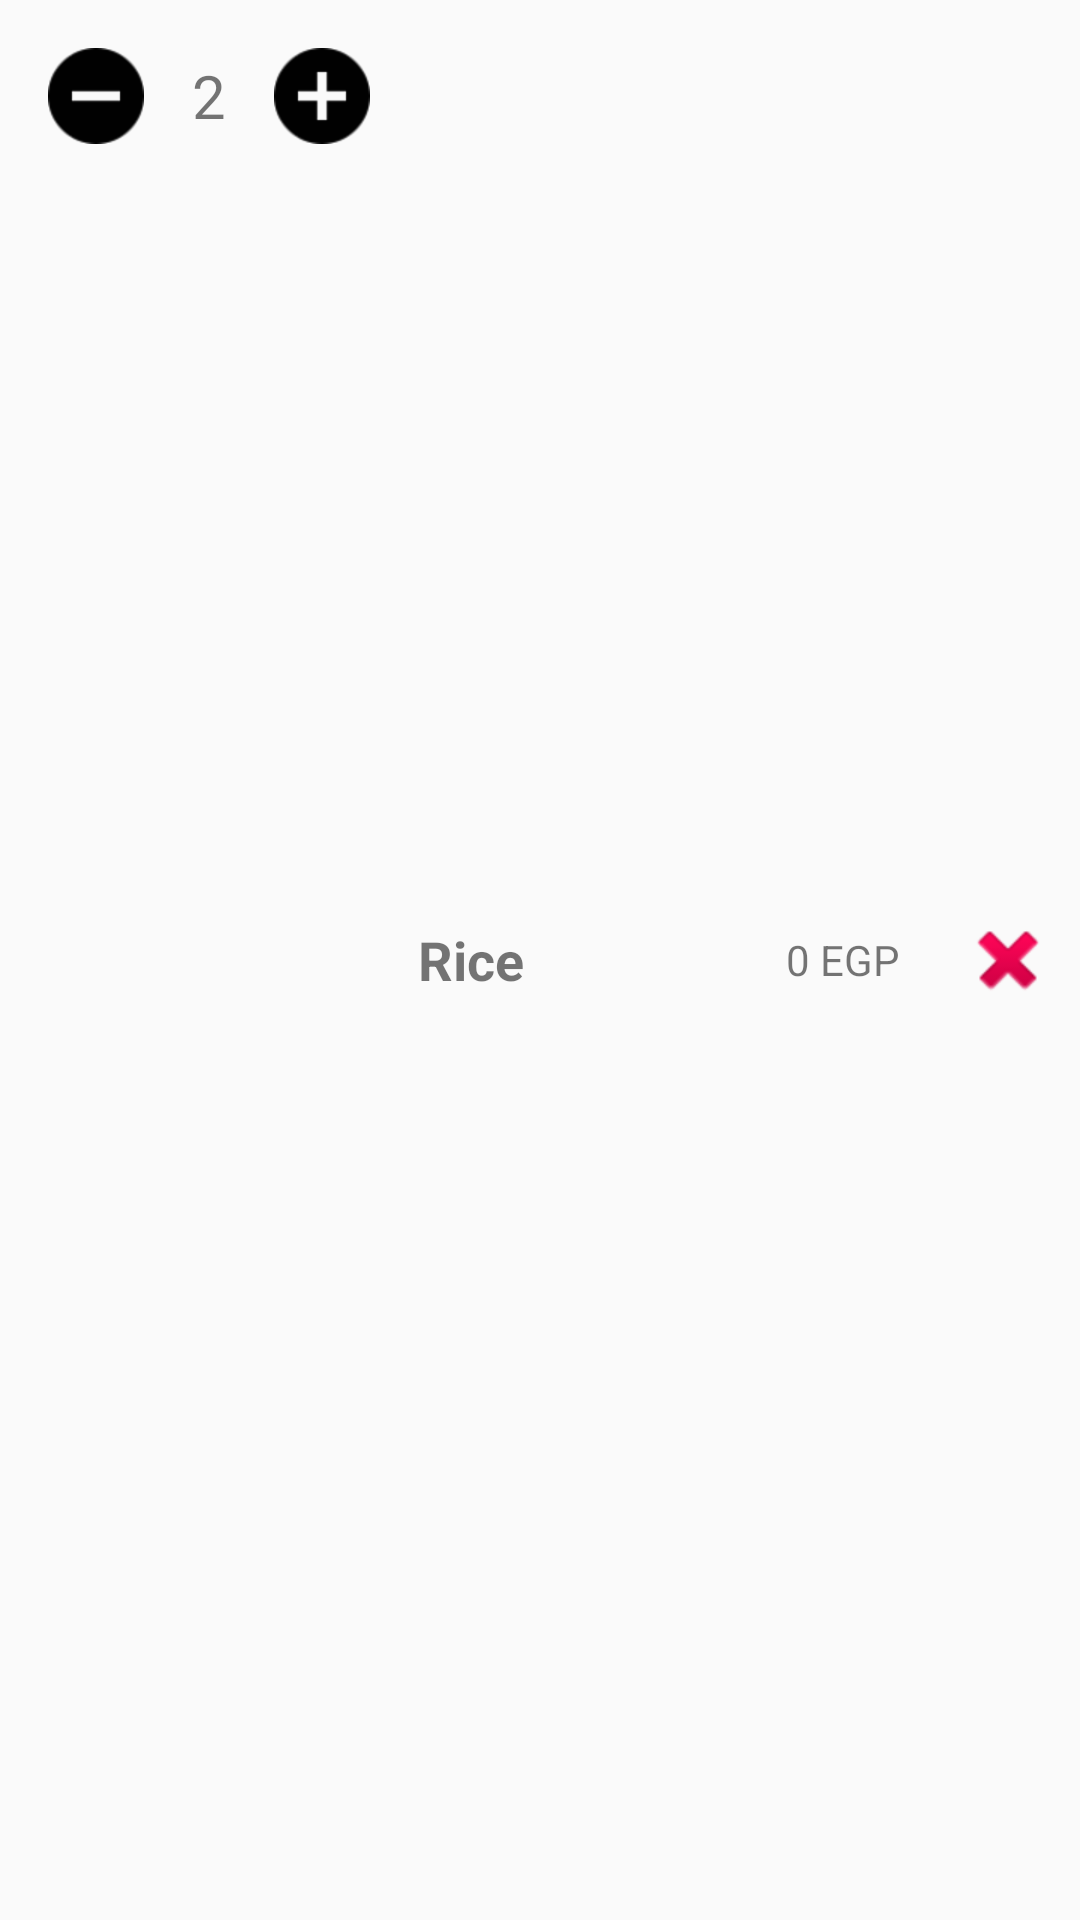

Point at icon controls on the screen. Image size 1080px×1920px, points as point (x, y).
decrease: point (96, 96)
delete: point (1008, 960)
increase: point (322, 96)
